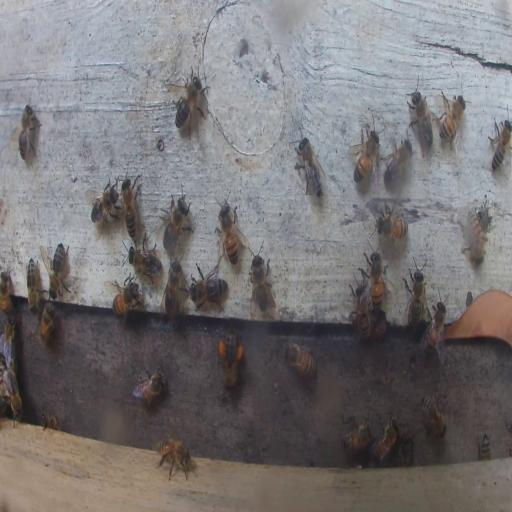bee: (174, 69, 210, 136), (406, 79, 434, 149), (350, 122, 380, 186), (160, 189, 192, 247), (296, 136, 326, 197), (156, 436, 194, 481), (89, 174, 120, 228), (404, 256, 427, 328), (188, 266, 227, 308), (421, 300, 448, 358), (466, 200, 490, 265), (350, 279, 374, 342), (440, 88, 466, 146), (14, 103, 40, 160), (219, 196, 239, 265), (383, 136, 413, 182), (47, 240, 70, 300), (219, 328, 242, 388), (111, 276, 142, 320), (371, 417, 399, 464), (250, 248, 271, 310), (490, 116, 512, 172), (132, 367, 166, 403), (163, 258, 183, 319), (376, 203, 408, 241), (129, 240, 161, 278), (421, 392, 447, 438), (283, 341, 316, 377), (121, 172, 140, 234), (341, 420, 372, 456), (4, 368, 22, 423), (34, 302, 56, 342), (370, 253, 383, 311), (0, 270, 14, 318), (27, 258, 39, 312), (397, 437, 414, 465), (2, 317, 15, 352), (478, 431, 492, 461), (40, 410, 58, 430)
